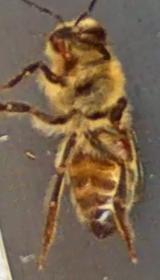varroa_mite: (100, 120, 144, 170)
